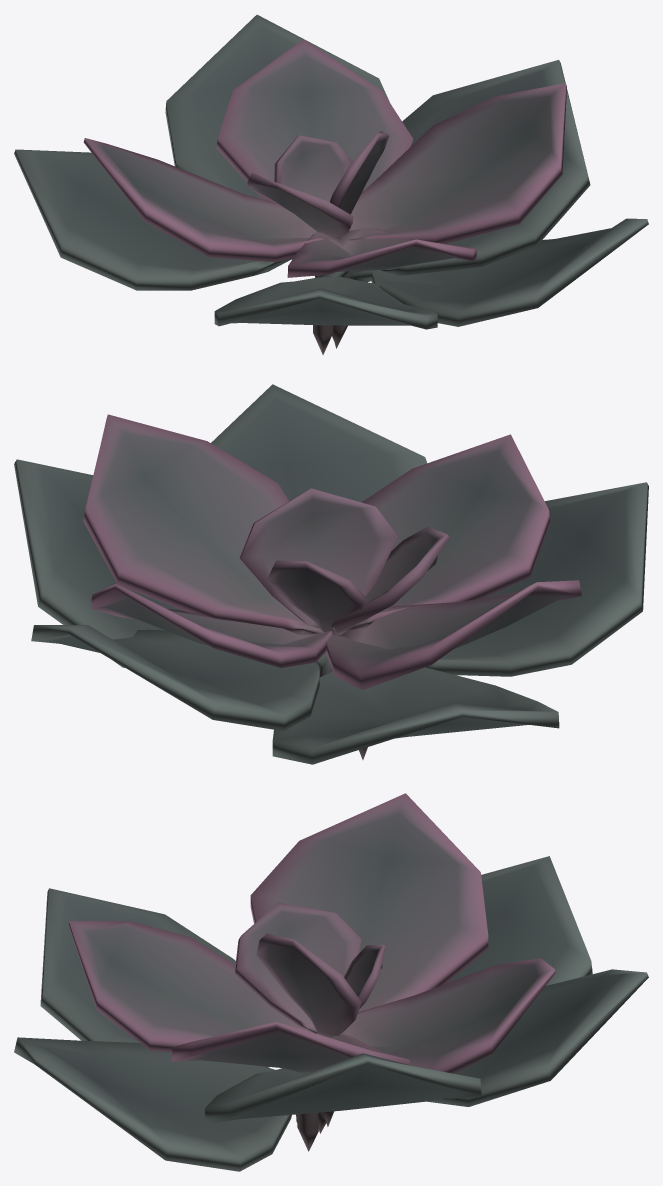
File: plants-cacti-succulents-purple-succulent_v3.fbx
3 views of the same model, one above another, from view 1: azimuth 30°, elevation 25°; view 2: azimuth 150°, elevation 25°; view 3: azimuth 270°, elevation 25° (orthographic). The views are drawn at different scales.
Visible parts, largest first — view 1: Purple Succulent_v3; view 2: Purple Succulent_v3; view 3: Purple Succulent_v3.
Boxes of the visible parts, left/top/right/bottom form: Purple Succulent_v3: left=14, top=14, right=648, bottom=354; Purple Succulent_v3: left=14, top=384, right=648, bottom=764; Purple Succulent_v3: left=14, top=793, right=648, bottom=1171.
Size of the model in its own units: 0.1425 by 0.0655 by 0.15.
